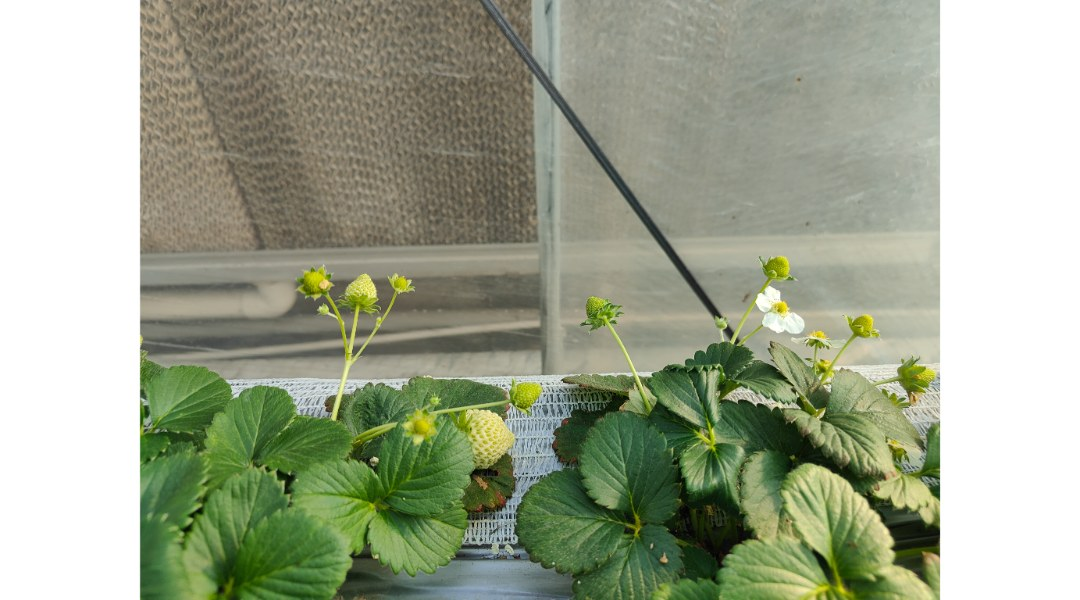berry: (452, 407, 519, 476), (338, 269, 383, 316), (575, 294, 626, 335), (896, 355, 934, 402), (755, 250, 804, 285), (503, 377, 549, 414), (846, 307, 882, 348), (295, 261, 330, 301), (403, 407, 434, 446), (387, 272, 418, 297)
flower: (754, 286, 807, 342)
strain: (606, 324, 656, 414), (823, 337, 855, 377), (444, 395, 504, 416), (326, 368, 346, 431), (355, 322, 377, 364)
